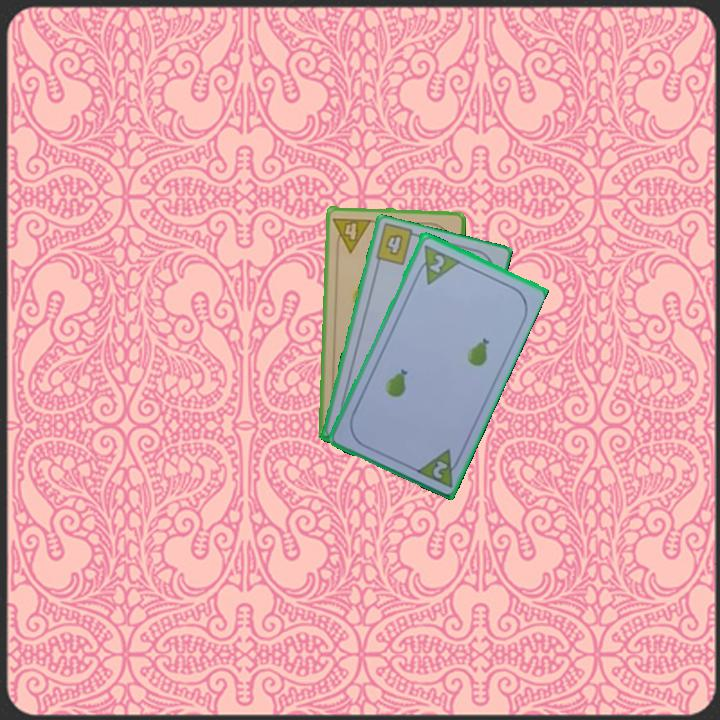2p: (411, 444, 465, 490), (425, 250, 447, 275)
4b: (382, 230, 406, 258)
4p: (330, 213, 374, 255)
